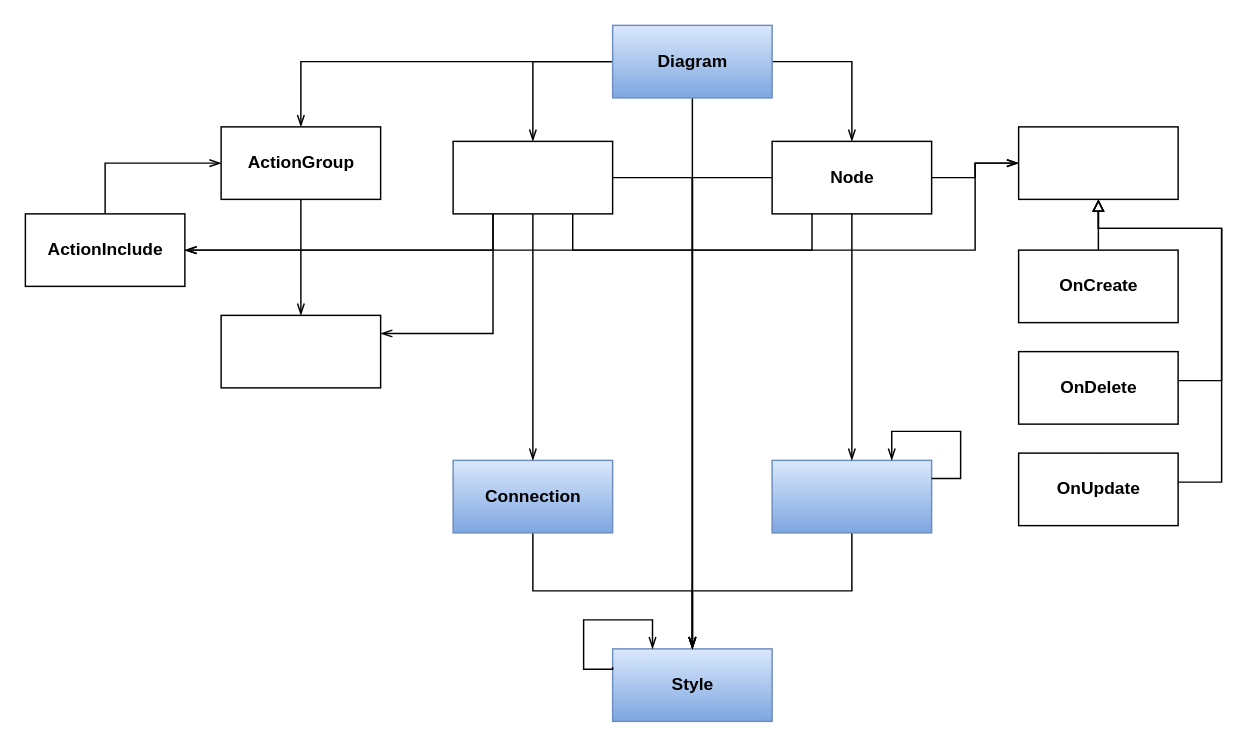
This 1259x747 diagram has some shape labels left out. The centre of each missing label's shape, as x and y in pixels:
Action: point (300, 351)
Edge: point (532, 177)
Shape: point (851, 496)
«Trait» Methode: point (1097, 162)
